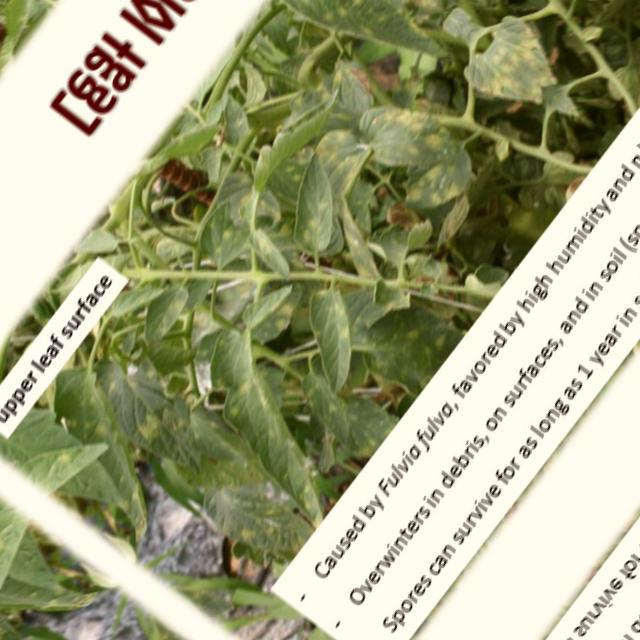Tomato mold leaf: (162, 330, 379, 531), (7, 345, 215, 546), (85, 358, 246, 504), (257, 106, 403, 261), (272, 0, 457, 114), (271, 279, 394, 402), (344, 82, 462, 196), (284, 362, 396, 466), (452, 42, 557, 138), (186, 193, 267, 276), (232, 269, 306, 349), (134, 274, 202, 350), (522, 78, 594, 137), (242, 226, 305, 283)
